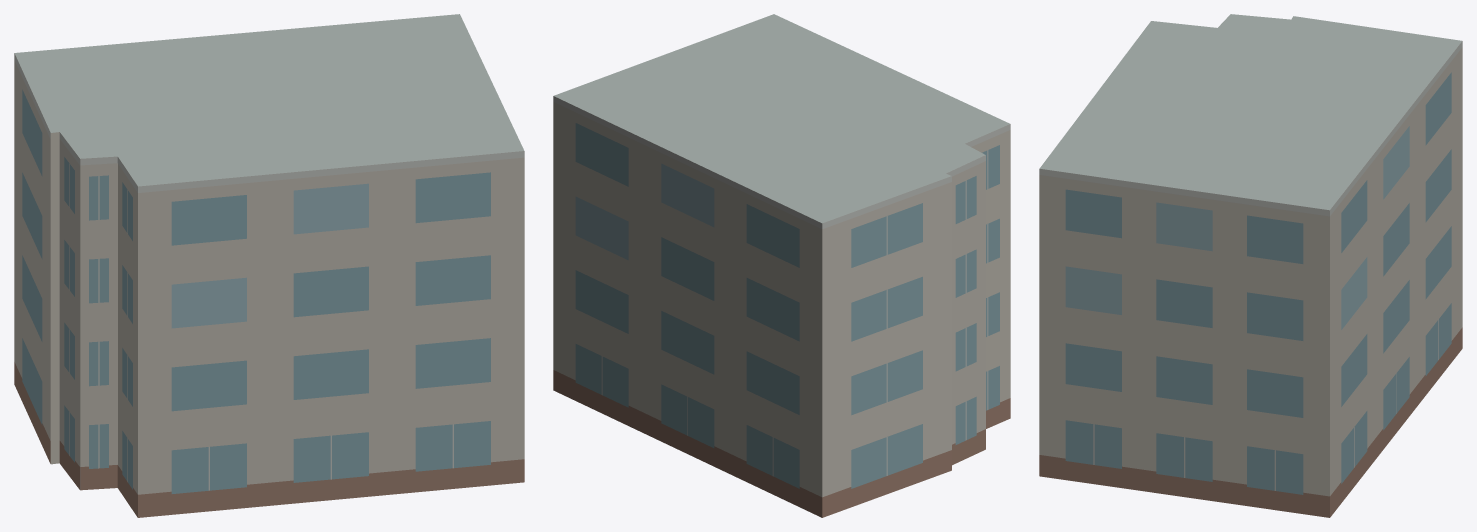
File: survey-upis-32508583.glb
The picture shows the model from 3 angles, left to right: view 1: azimuth 30°, elevation 25°; view 2: azimuth 150°, elevation 25°; view 3: azimuth 270°, elevation 25°; orthographic projection. The views are drawn at different scales.
Parts seen in each view (by area): view 1: survey-upis-32508583.tmp; view 2: survey-upis-32508583.tmp; view 3: survey-upis-32508583.tmp.
Part boxes in pixels (left/top/right/bottom): survey-upis-32508583.tmp: left=14, top=14, right=524, bottom=517; survey-upis-32508583.tmp: left=553, top=14, right=1010, bottom=517; survey-upis-32508583.tmp: left=1039, top=14, right=1462, bottom=517.
Bounding box in the file's own units: 16.7 × 12.2 × 15.22.
